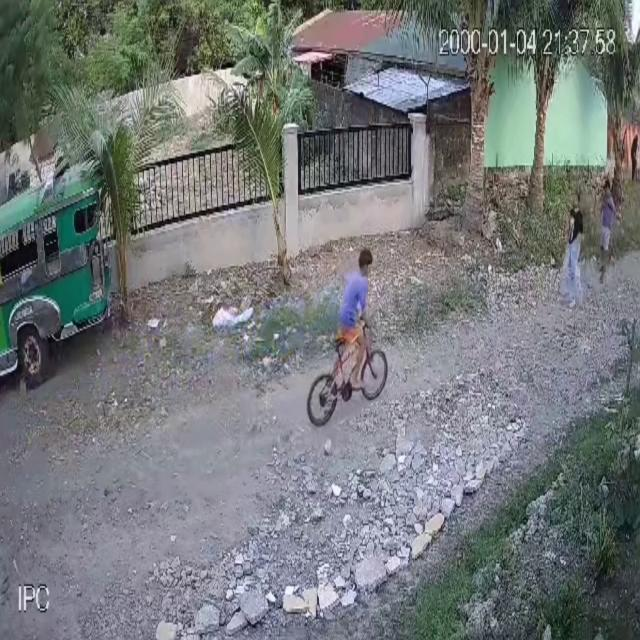walking: (563, 191, 588, 312), (596, 180, 620, 282)
